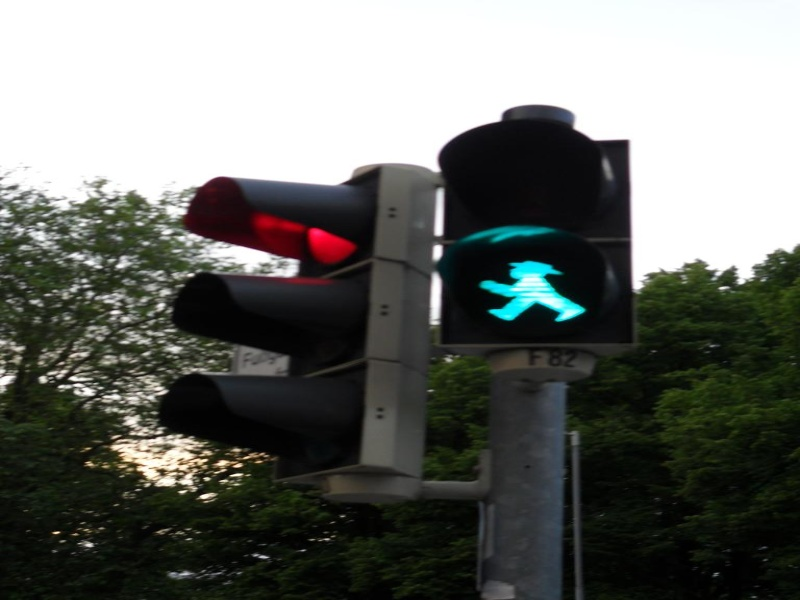pedestrian_crossing_green: (441, 232, 632, 355)
